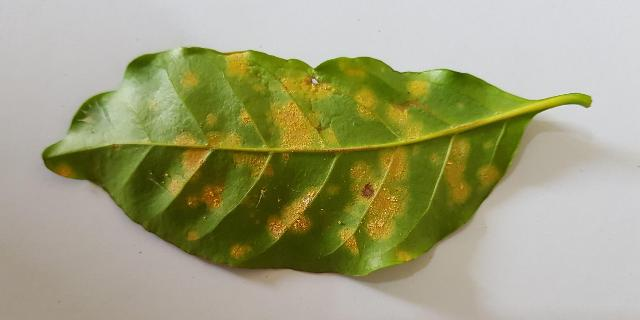miner: (168, 132, 271, 198), (346, 144, 408, 241), (267, 102, 336, 163), (265, 187, 322, 240), (441, 138, 470, 202), (279, 74, 336, 101), (388, 103, 423, 141), (187, 184, 225, 210), (354, 89, 376, 118), (225, 51, 249, 77), (339, 228, 358, 254), (409, 80, 431, 96), (230, 244, 251, 259), (53, 165, 75, 178), (480, 167, 497, 183), (182, 73, 198, 88), (240, 109, 254, 125), (396, 251, 413, 263), (347, 68, 364, 76), (187, 231, 198, 241), (207, 114, 217, 125), (329, 186, 338, 194)
